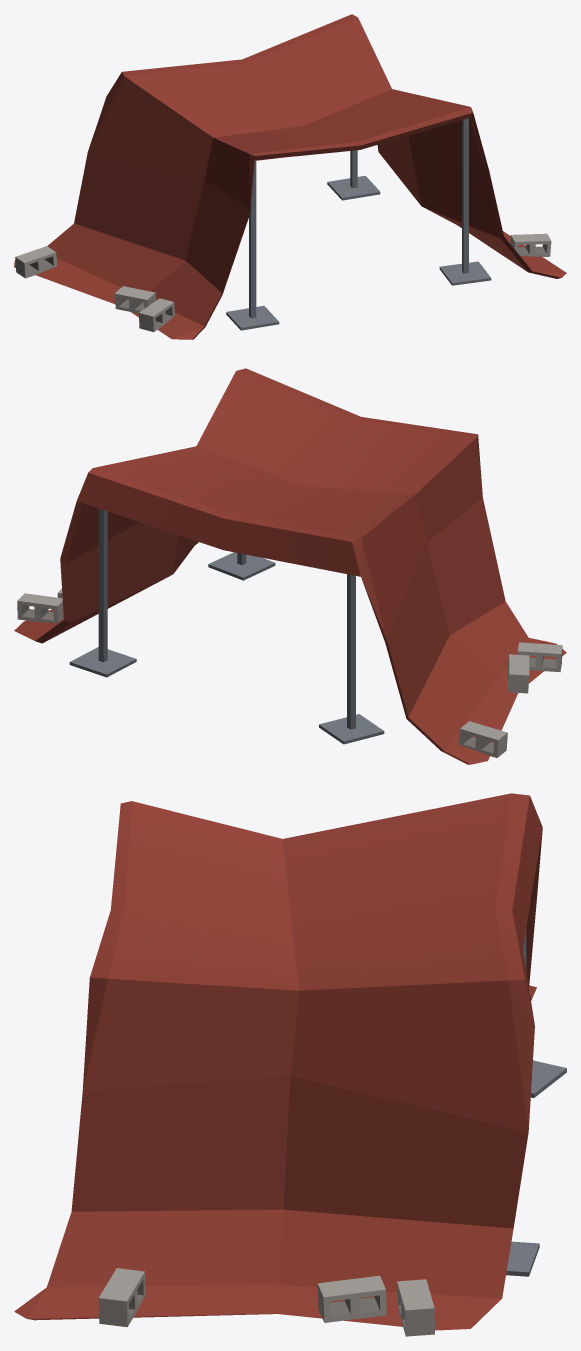
The model's file is AI_Prop_Makeshift_Tent_06.fbx.
3 views of the same model, one above another, from view 1: azimuth 30°, elevation 25°; view 2: azimuth 150°, elevation 25°; view 3: azimuth 270°, elevation 25° (orthographic). The views are drawn at different scales.
Visible parts, largest first — view 1: AI_Prop_Makeshift_Tent_06; view 2: AI_Prop_Makeshift_Tent_06; view 3: AI_Prop_Makeshift_Tent_06.
Part boxes in pixels (x1,y1,x2,y2): AI_Prop_Makeshift_Tent_06: (14,14,566,339); AI_Prop_Makeshift_Tent_06: (14,368,566,764); AI_Prop_Makeshift_Tent_06: (14,793,566,1336).
Bounding box in the file's own units: 9.95 × 3.71 × 6.47.
